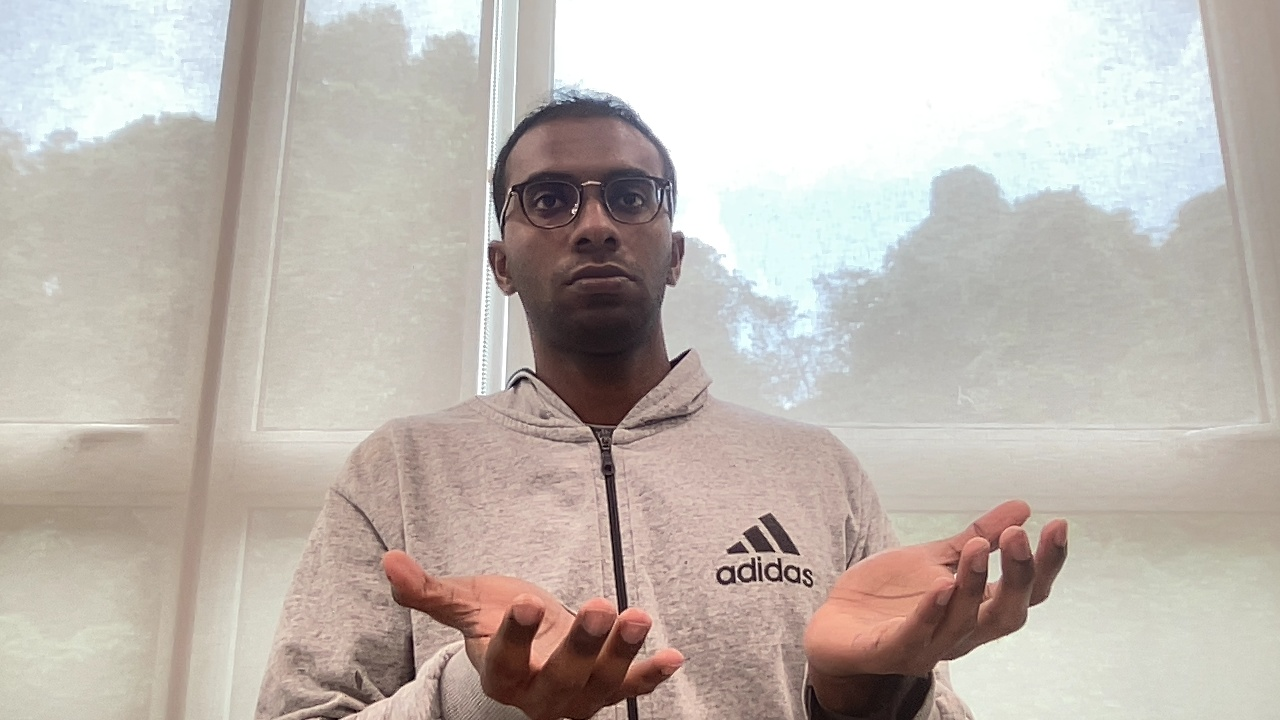give: (376, 492, 1078, 720)
